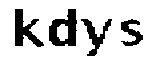d: (48, 6, 79, 50)
k: (11, 3, 44, 49)
s: (119, 18, 145, 51)
y: (79, 16, 113, 59)
